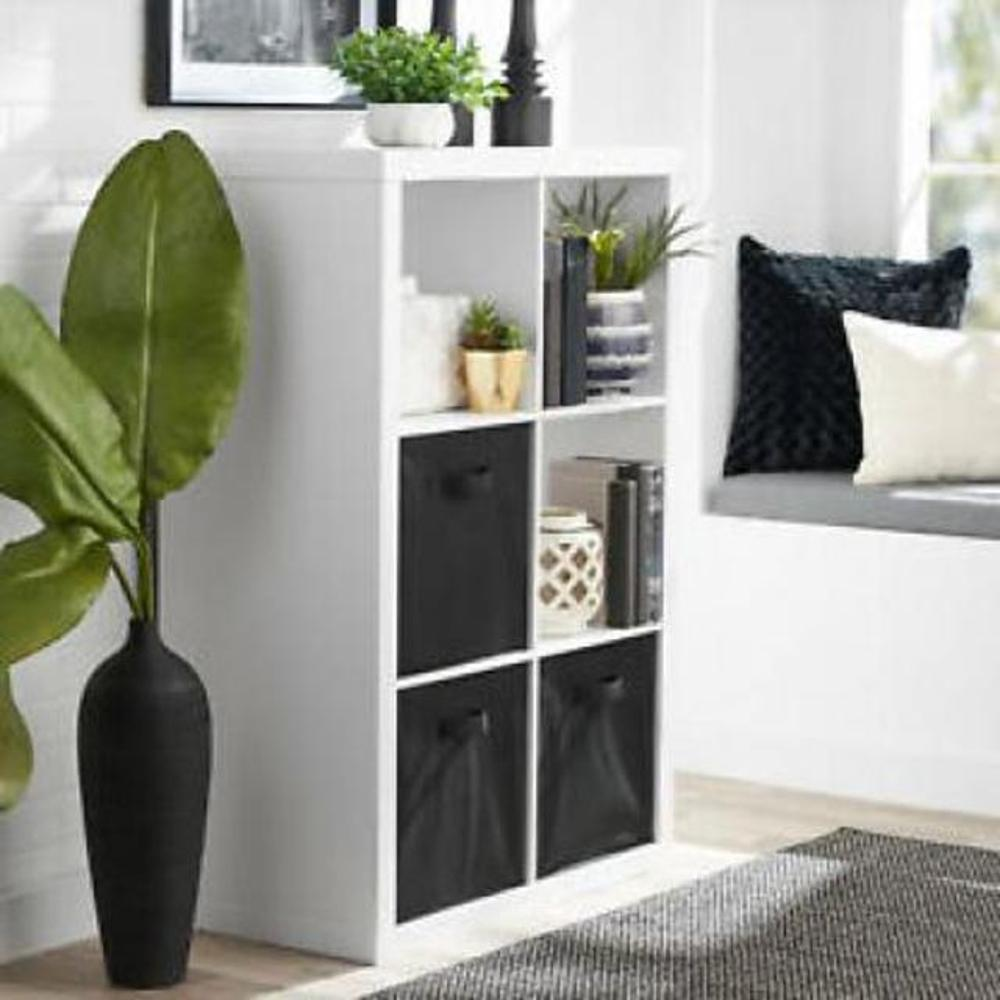lamp: (126, 135, 710, 973)
